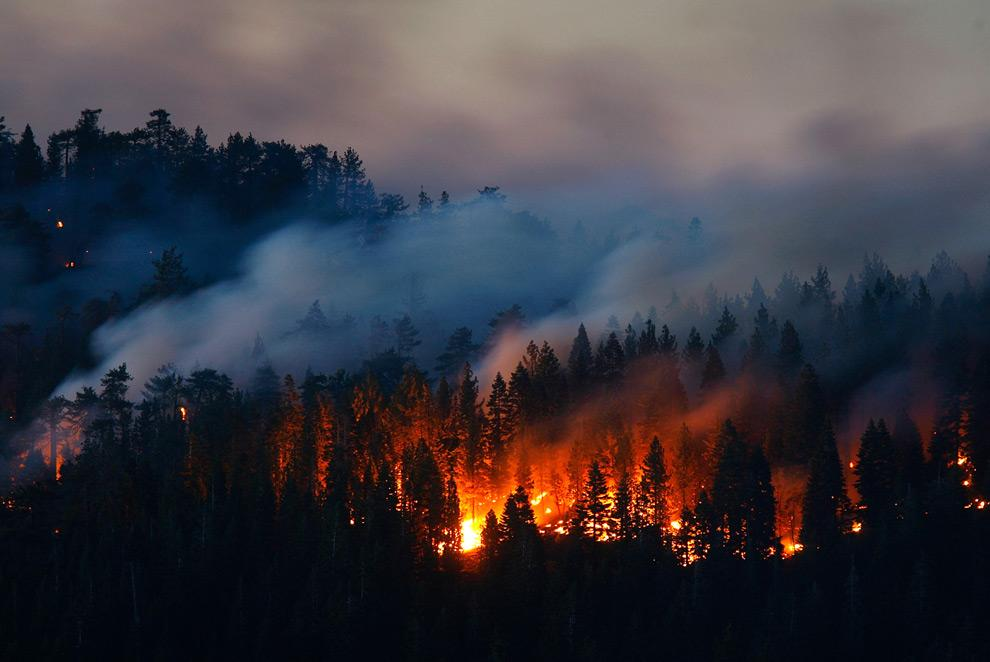Fire: (429, 478, 808, 564)
